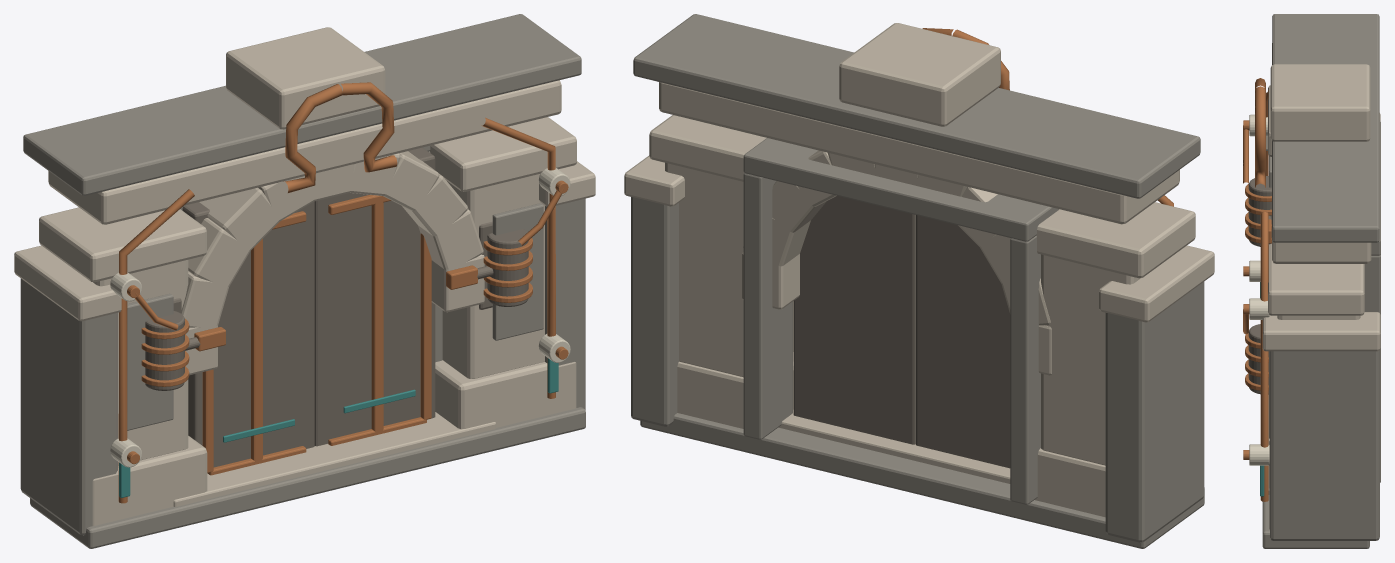
The model's file is omega-gate.glb.
The picture shows the model from 3 angles, left to right: view 1: azimuth 30°, elevation 25°; view 2: azimuth 150°, elevation 25°; view 3: azimuth 270°, elevation 25°; orthographic projection. The views are drawn at different scales.
Visible parts, largest first — view 1: ArchitecturalFrame_PaleErodedStone, ArchitecturalFrame_StoneShadow, DoorLeaf_RightPivot_SecondaryMetal, DoorLeaf_LeftPivot_SecondaryMetal, DoorLeaf_RightPivot_AgedCopper, DoorLeaf_LeftPivot_AgedCopper, ArchitecturalFrame_AgedCopper, MechanicalFixed_SecondaryMetal, DecorativeDetail_AgedCopper, MechanicalFixed_AgedCopper, Insulators_PaleCeramic, ElectricalTerminals_AgedCopper (+1 smaller); view 2: ArchitecturalFrame_StoneShadow, ArchitecturalFrame_PaleErodedStone, DoorLeaf_RightPivot_SecondaryMetal, DoorLeaf_LeftPivot_SecondaryMetal; view 3: ArchitecturalFrame_StoneShadow, ArchitecturalFrame_PaleErodedStone, ArchitecturalFrame_AgedCopper, MechanicalFixed_SecondaryMetal, Insulators_PaleCeramic, MechanicalFixed_AgedCopper, DecorativeDetail_AgedCopper, ElectricalTerminals_AgedCopper.
Boxes of the visible parts, x1=… form: ArchitecturalFrame_PaleErodedStone: x1=14, y1=27, x2=595, y2=525; ArchitecturalFrame_StoneShadow: x1=20, y1=14, x2=585, y2=548; DoorLeaf_RightPivot_SecondaryMetal: x1=314, y1=147, x2=435, y2=446; DoorLeaf_LeftPivot_SecondaryMetal: x1=182, y1=201, x2=314, y2=467; DoorLeaf_RightPivot_AgedCopper: x1=328, y1=194, x2=431, y2=445; DoorLeaf_LeftPivot_AgedCopper: x1=202, y1=211, x2=306, y2=475; ArchitecturalFrame_AgedCopper: x1=118, y1=117, x2=555, y2=503; MechanicalFixed_SecondaryMetal: x1=145, y1=221, x2=528, y2=390; DecorativeDetail_AgedCopper: x1=283, y1=82, x2=397, y2=192; MechanicalFixed_AgedCopper: x1=141, y1=238, x2=532, y2=386; Insulators_PaleCeramic: x1=110, y1=168, x2=570, y2=467; ElectricalTerminals_AgedCopper: x1=127, y1=180, x2=568, y2=464; ArchitecturalFrame_StoneShadow: x1=631, y1=14, x2=1204, y2=548; ArchitecturalFrame_PaleErodedStone: x1=624, y1=23, x2=1214, y2=517; DoorLeaf_RightPivot_SecondaryMetal: x1=793, y1=195, x2=915, y2=444; DoorLeaf_LeftPivot_SecondaryMetal: x1=916, y1=215, x2=1010, y2=468; ArchitecturalFrame_StoneShadow: x1=1262, y1=14, x2=1380, y2=548; ArchitecturalFrame_PaleErodedStone: x1=1262, y1=43, x2=1380, y2=529; ArchitecturalFrame_AgedCopper: x1=1260, y1=90, x2=1268, y2=501; MechanicalFixed_SecondaryMetal: x1=1248, y1=176, x2=1271, y2=394; Insulators_PaleCeramic: x1=1249, y1=114, x2=1269, y2=465; MechanicalFixed_AgedCopper: x1=1245, y1=184, x2=1271, y2=390; DecorativeDetail_AgedCopper: x1=1255, y1=78, x2=1265, y2=187; ElectricalTerminals_AgedCopper: x1=1243, y1=120, x2=1249, y2=459.
Size of the model in its own units: 9.78 by 7.36 by 2.57.
